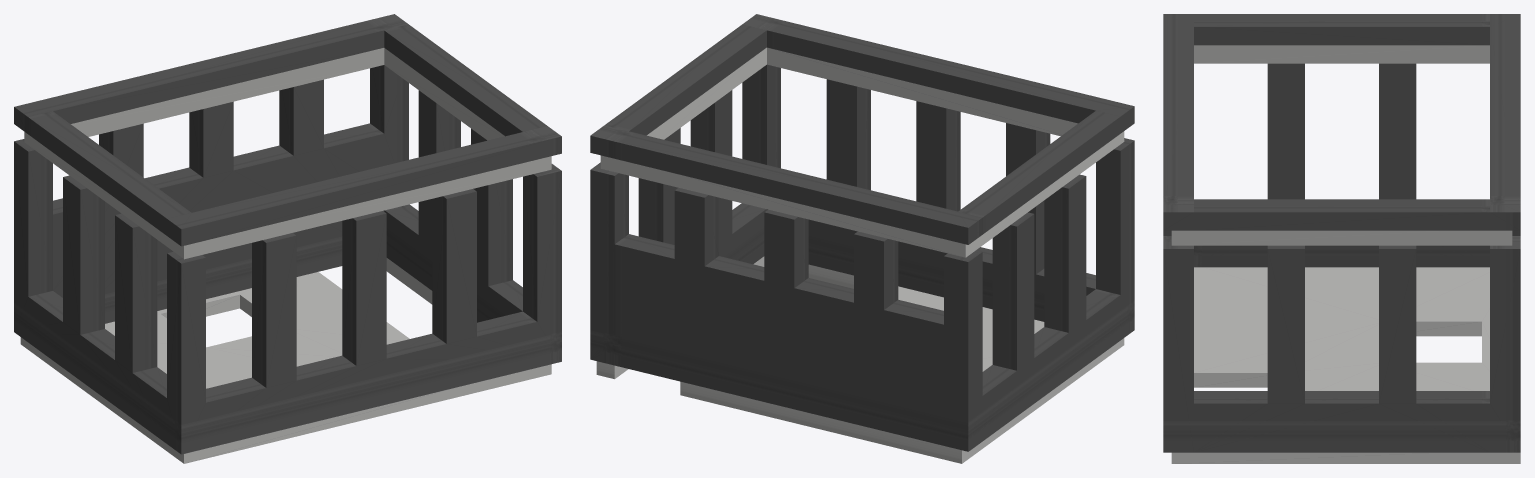
The model's file is axma-building.glb.
3 renders of one model, left to right at view 1: azimuth 30°, elevation 25°; view 2: azimuth 150°, elevation 25°; view 3: azimuth 270°, elevation 25°, orthographic. The views are drawn at different scales.
Parts seen in each view (by area): view 1: Базовая стена 1 этаж. Газобето_6445270, Базовая стена 1 этаж. Газобето_584556d, Перекрытие Башня. пояс [1185363], Перекрытие 2 этаж. Плита перек_e82685c; view 2: Базовая стена 1 этаж. Газобето_6445270, Базовая стена 1 этаж. Газобето_584556d, Перекрытие Башня. пояс [1185363], Перекрытие 2 этаж. Плита перек_e82685c; view 3: Базовая стена 1 этаж. Газобето_6445270, Базовая стена 1 этаж. Газобето_584556d, Перекрытие 2 этаж. Плита перек_e82685c, Перекрытие Башня. пояс [1185363].
Part boxes in pixels (x1,y1,x2,y2): Базовая стена 1 этаж. Газобето_6445270: (14,65,561,454); Базовая стена 1 этаж. Газобето_584556d: (14,14,561,246); Перекрытие Башня. пояс [1185363]: (24,48,551,259); Перекрытие 2 этаж. Плита перек_e82685c: (20,258,551,463); Базовая стена 1 этаж. Газобето_6445270: (590,64,1134,451); Базовая стена 1 этаж. Газобето_584556d: (590,14,1134,244); Перекрытие Башня. пояс [1185363]: (600,47,1124,257); Перекрытие 2 этаж. Плита перек_e82685c: (596,256,1124,463); Базовая стена 1 этаж. Газобето_6445270: (1163,63,1520,452); Базовая стена 1 этаж. Газобето_584556d: (1163,14,1520,230); Перекрытие 2 этаж. Плита перек_e82685c: (1171,267,1520,463); Перекрытие Башня. пояс [1185363]: (1171,45,1512,245).
Size of the model in its own units: 5.78 by 3.47 by 4.4.
2 materials, 2 textured.
